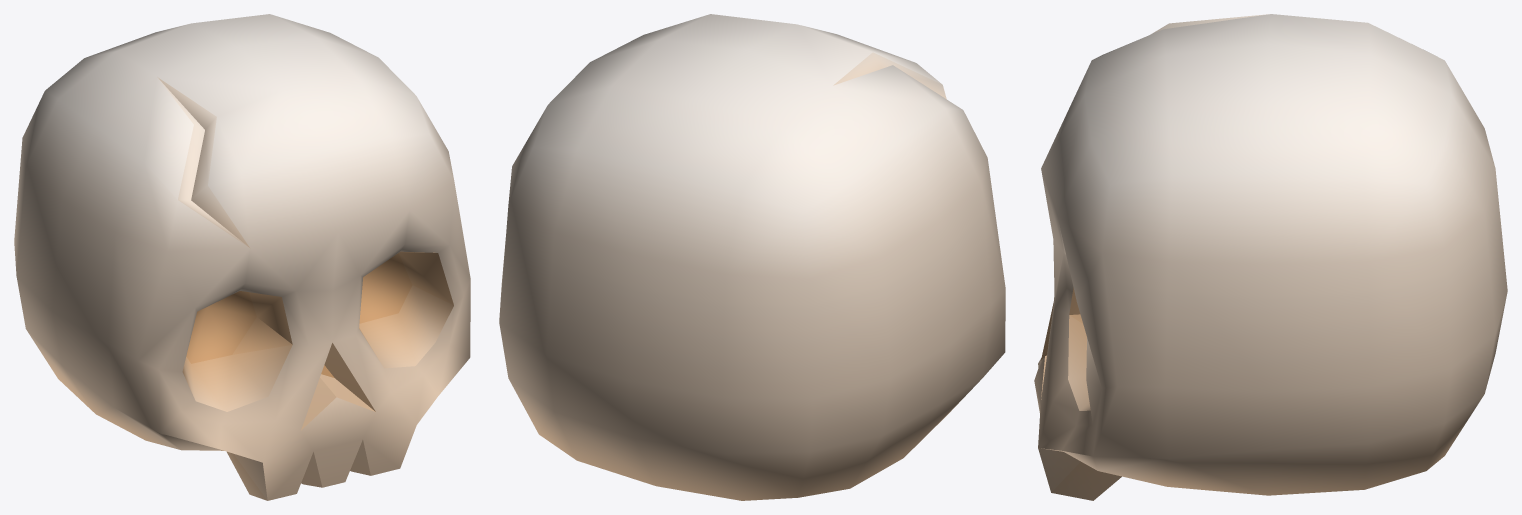
File: skull.glb
3 renders of one model, left to right at view 1: azimuth 30°, elevation 25°; view 2: azimuth 150°, elevation 25°; view 3: azimuth 270°, elevation 25°, orthographic. The views are drawn at different scales.
Parts seen in each view (by area): view 1: skull; view 2: skull; view 3: skull.
Boxes of the visible parts, left/top/right/bottom form: skull: left=14, top=14, right=470, bottom=500; skull: left=499, top=14, right=1005, bottom=500; skull: left=1034, top=14, right=1507, bottom=500.
Size of the model in its own units: 0.9176 by 0.8982 by 0.9072.
Materials: 1 (1 with a texture image).
